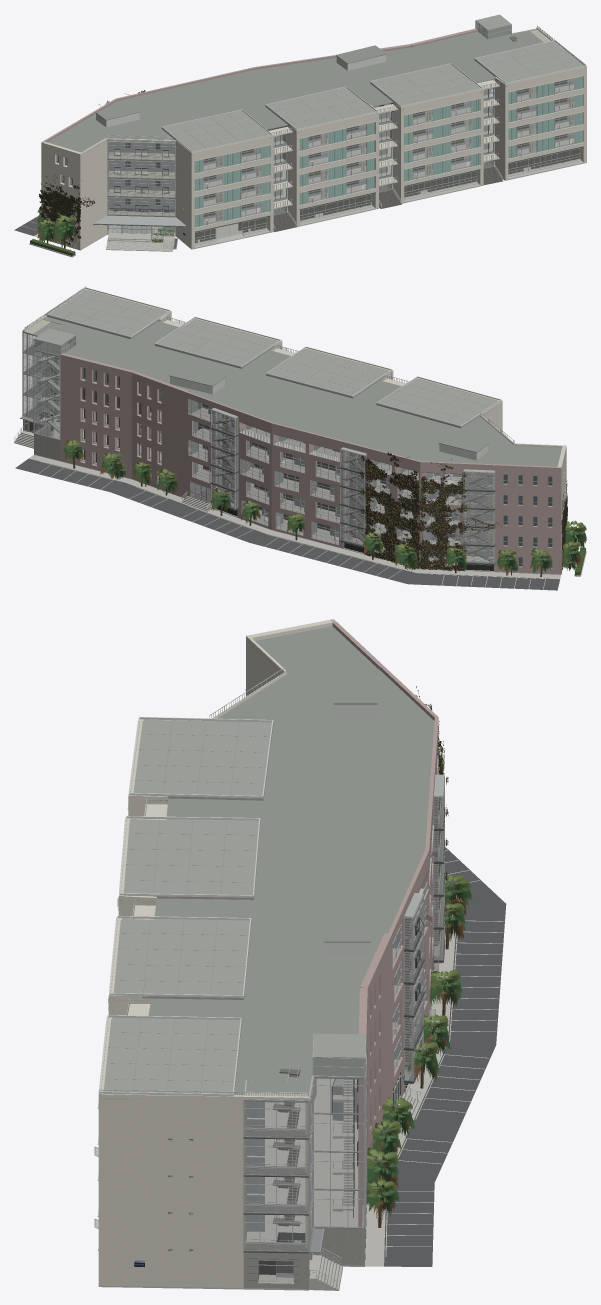
Rendered from north_teaching5.glb.
The picture shows the model from 3 angles, top to bottom: view 1: azimuth 30°, elevation 25°; view 2: azimuth 150°, elevation 25°; view 3: azimuth 270°, elevation 25°; orthographic projection. The views are drawn at different scales.
Visible parts, largest first — view 1: Teaching5_Teaching5EntryIvory, Teaching5_FacultyRoof, Teaching5_PhotoTeaching5ClearGlass, Teaching5_PhotoTeaching5RoofDeck, Teaching5_Teaching5EntrySilver, Teaching5_PhotoTeaching5Sage, Teaching5_Teaching5EntryLanding, Teaching5_Teaching5EntryAtrium, Teaching5_Teaching5EntryInterior, Teaching5_PhotoTeaching5SageRib, Teaching5_PhotoTeaching5Curtain, Teaching5_Teaching5EntryInteriorShadow (+13 smaller); view 2: Teaching5_PhotoTeaching5RoseTile, Teaching5_FacultyRoof, Teaching5_PhotoTeaching5ClearGlass, Teaching5_PhotoTeaching5RoofDeck, Teaching5_Teaching5EntrySilver, Teaching5_Teaching5EntryLanding, Teaching5_PhotoTeaching5Asphalt, Teaching5_PhotoTeaching5IvySpray, Teaching5_Teaching5EntryAtrium, Teaching5_PhotoTeaching5StairGranite, Teaching5_Teaching5EntryIvory, Teaching5_PhotoTeaching5Palm (+17 smaller); view 3: Teaching5_FacultyRoof, Teaching5_PhotoTeaching5RoofDeck, Teaching5_Teaching5EntryIvory, Teaching5_PhotoTeaching5ClearGlass, Teaching5_PhotoTeaching5Asphalt, Teaching5_Teaching5EntrySilver, Teaching5_PhotoTeaching5RoseTile, Teaching5_EntryStone, Teaching5_Teaching5EntryLanding, Teaching5_Teaching5IvoryTile, Teaching5_PhotoTeaching5StairGranite, Teaching5_PhotoTeaching5Palm (+10 smaller).
Part boxes in pixels (x1,y1,x2,y2): Teaching5_Teaching5EntryIvory: [41, 27, 586, 249]; Teaching5_FacultyRoof: [47, 27, 542, 152]; Teaching5_PhotoTeaching5ClearGlass: [57, 78, 580, 243]; Teaching5_PhotoTeaching5RoofDeck: [161, 14, 583, 151]; Teaching5_Teaching5EntrySilver: [93, 20, 585, 244]; Teaching5_PhotoTeaching5Sage: [194, 76, 583, 227]; Teaching5_Teaching5EntryLanding: [29, 84, 583, 257]; Teaching5_Teaching5EntryAtrium: [109, 42, 574, 219]; Teaching5_Teaching5EntryInterior: [107, 29, 573, 233]; Teaching5_PhotoTeaching5SageRib: [196, 77, 581, 226]; Teaching5_PhotoTeaching5Curtain: [195, 148, 579, 242]; Teaching5_Teaching5EntryInteriorShadow: [109, 80, 567, 239]; Teaching5_PhotoTeaching5RoseTile: [60, 353, 561, 574]; Teaching5_FacultyRoof: [23, 316, 561, 466]; Teaching5_PhotoTeaching5ClearGlass: [23, 333, 493, 566]; Teaching5_PhotoTeaching5RoofDeck: [34, 290, 497, 428]; Teaching5_Teaching5EntrySilver: [14, 286, 551, 565]; Teaching5_Teaching5EntryLanding: [14, 355, 586, 579]; Teaching5_PhotoTeaching5Asphalt: [15, 458, 559, 590]; Teaching5_PhotoTeaching5IvySpray: [359, 452, 567, 570]; Teaching5_Teaching5EntryAtrium: [23, 325, 492, 560]; Teaching5_PhotoTeaching5StairGranite: [24, 342, 494, 563]; Teaching5_Teaching5EntryIvory: [22, 289, 566, 573]; Teaching5_PhotoTeaching5Palm: [63, 444, 586, 573]; Teaching5_FacultyRoof: [104, 626, 434, 1102]; Teaching5_PhotoTeaching5RoofDeck: [104, 719, 365, 1094]; Teaching5_Teaching5EntryIvory: [97, 619, 414, 1287]; Teaching5_PhotoTeaching5ClearGlass: [95, 797, 441, 1281]; Teaching5_PhotoTeaching5Asphalt: [384, 847, 506, 1266]; Teaching5_Teaching5EntrySilver: [94, 667, 445, 1288]; Teaching5_PhotoTeaching5RoseTile: [330, 619, 438, 1238]; Teaching5_EntryStone: [98, 963, 434, 1290]; Teaching5_Teaching5EntryLanding: [258, 756, 455, 1290]; Teaching5_Teaching5IvoryTile: [99, 704, 376, 1096]; Teaching5_PhotoTeaching5StairGranite: [245, 797, 441, 1250]; Teaching5_PhotoTeaching5Palm: [366, 882, 472, 1215].
Bounding box in the file's own units: 118 × 23.47 × 41.69.
52 materials, 4 textured.
